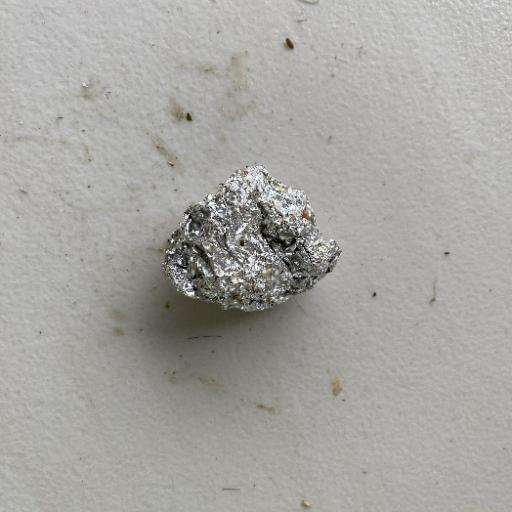Metal: (160, 163, 342, 314)
